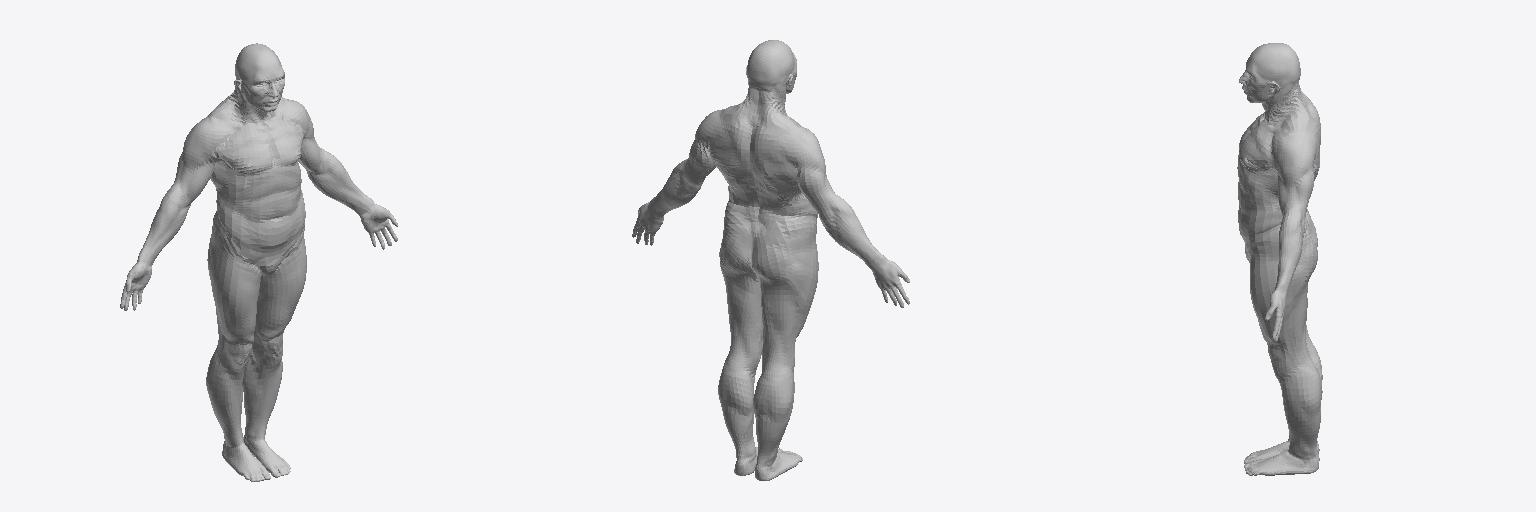
The model's file is DemoSoldier2.OBJ.
3 views of the same model, side by side, from view 1: azimuth 30°, elevation 25°; view 2: azimuth 150°, elevation 25°; view 3: azimuth 270°, elevation 25° (orthographic).
Parts seen in each view (by area): view 1: Group46358, Group11260, Group17994, Group39467, Group43791, Group53417; view 2: Group11260, Group46358, Group17994, Group39467, Group43791, Group53417; view 3: Group17994, Group43791, Group46358, Group53417, Group11260.
Boxes of the visible parts, box(x1,y1,x2,y2) form: Group46358: box(210, 102, 305, 256); Group11260: box(206, 211, 275, 481); Group17994: box(242, 226, 306, 477); Group39467: box(120, 108, 233, 310); Group43791: box(280, 97, 397, 249); Group53417: box(222, 43, 284, 122); Group11260: box(752, 218, 818, 480); Group46358: box(711, 105, 817, 265); Group17994: box(718, 203, 782, 475); Group39467: box(777, 120, 909, 307); Group43791: box(632, 106, 731, 245); Group53417: box(734, 40, 796, 129); Group17994: box(1244, 228, 1322, 475); Group43791: box(1257, 122, 1316, 341); Group46358: box(1237, 100, 1320, 247); Group53417: box(1239, 43, 1313, 121); Group11260: box(1244, 221, 1322, 463).
Size of the model in its own units: 5.44 by 7.91 by 1.45.